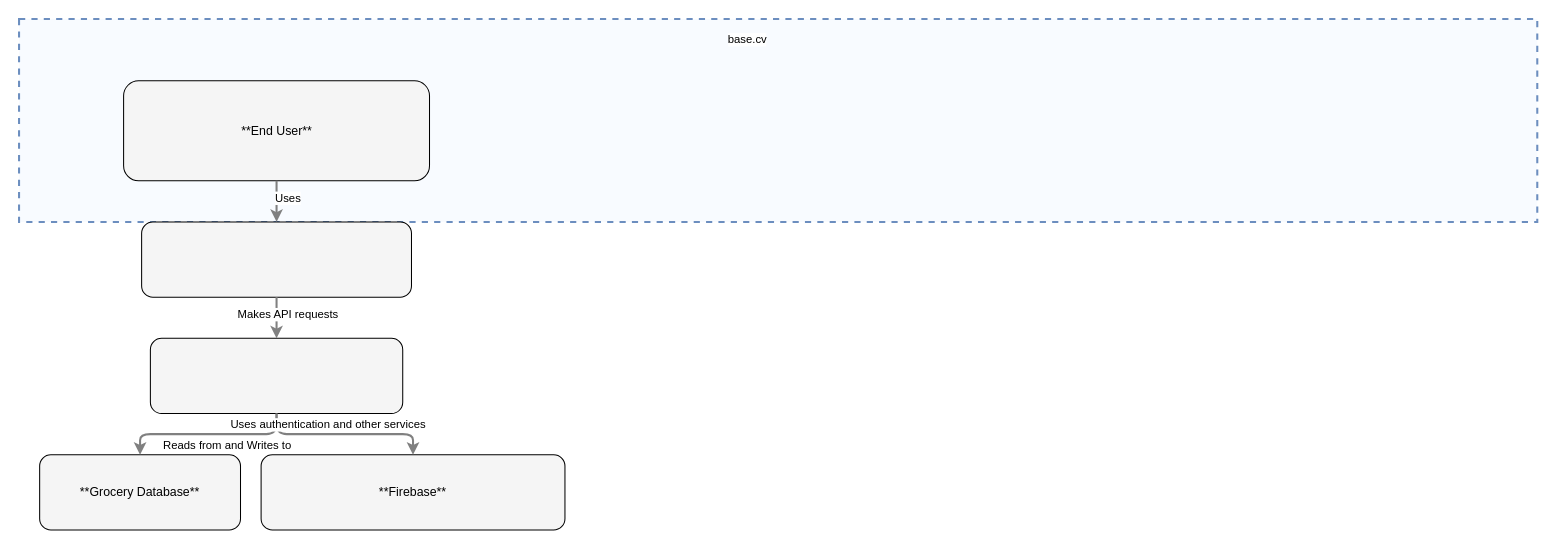
This 1555x548 diagram has some shape labels left out. Each missing label, with the box of its shape:
**Backend System**: (149, 337, 403, 414)
**Frontend System**: (141, 221, 411, 297)
